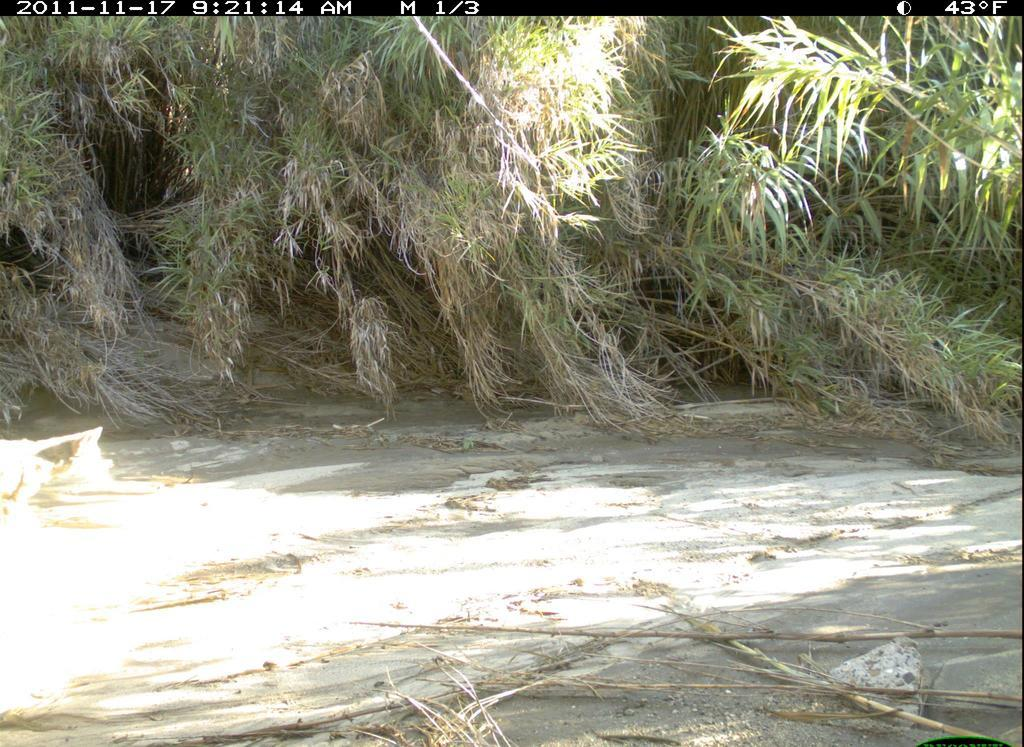coyote: (3, 418, 113, 550)
